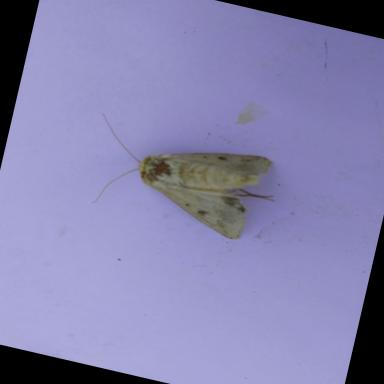abw: (74, 106, 292, 252)
